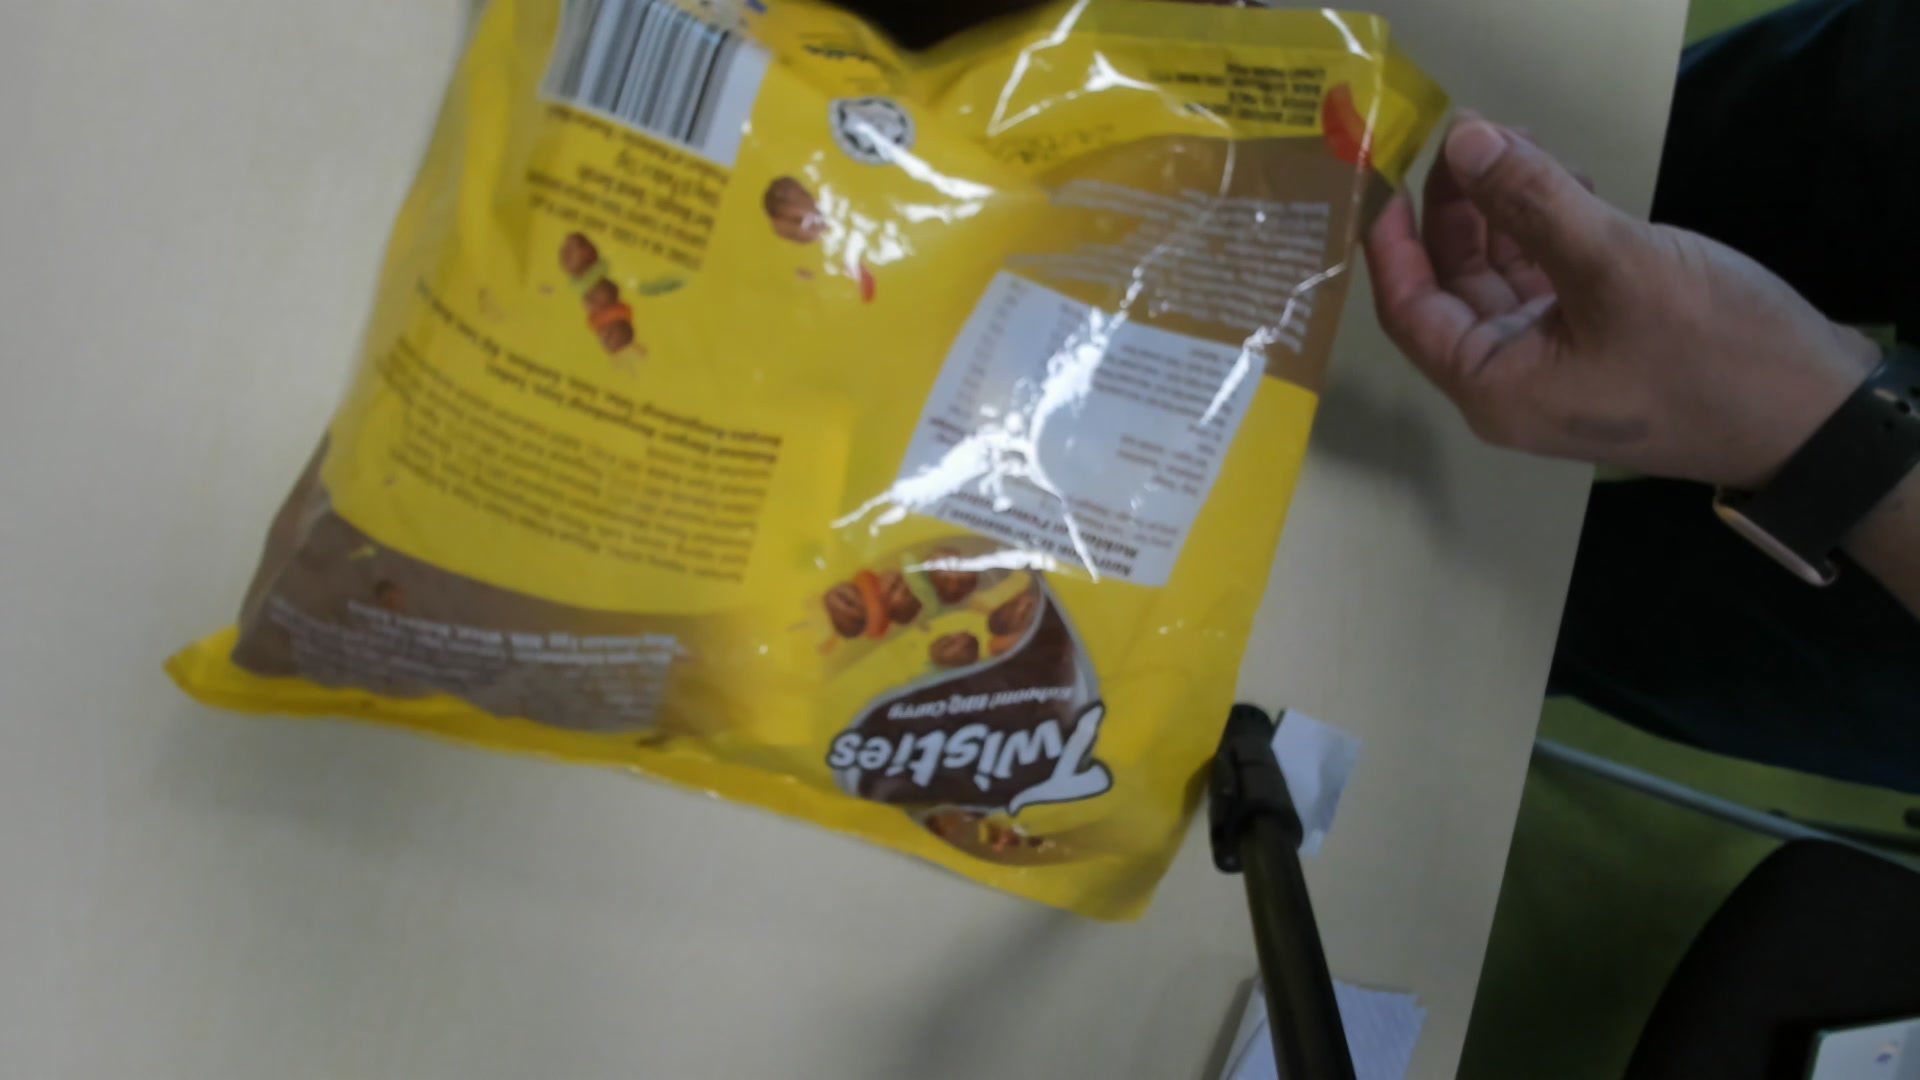PotatoChipsKeropok_0-99g_Halal_NonHealthy: (136, 7, 1456, 923)
